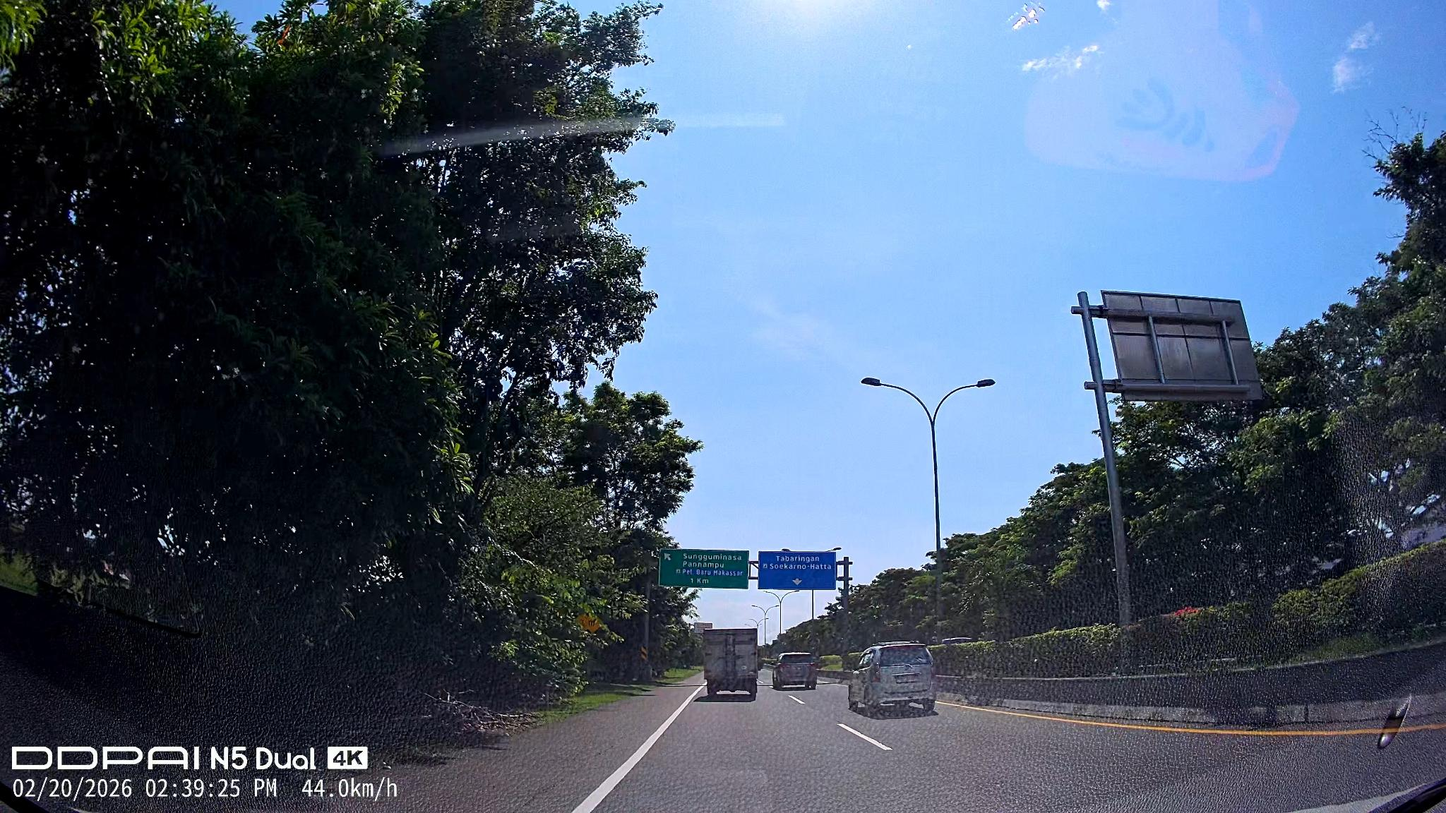rambu_teks: (658, 548, 750, 590), (758, 550, 837, 591)
